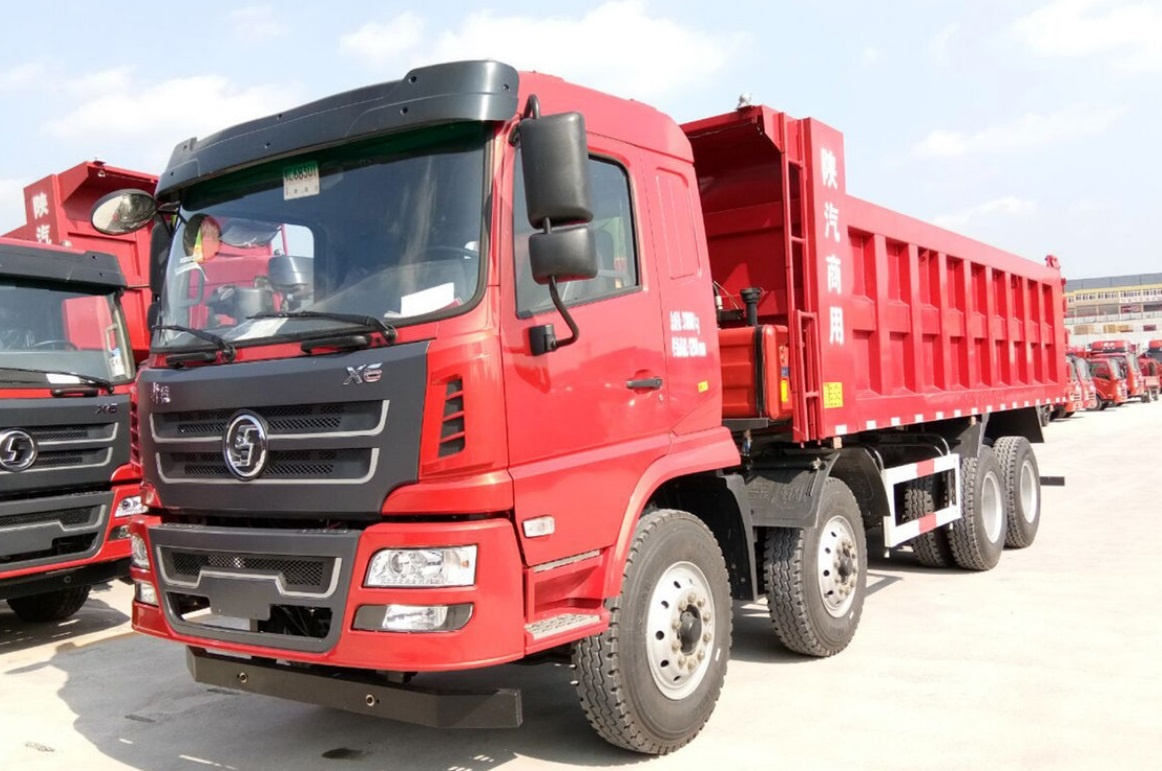heavy truck: (125, 73, 1071, 753)
